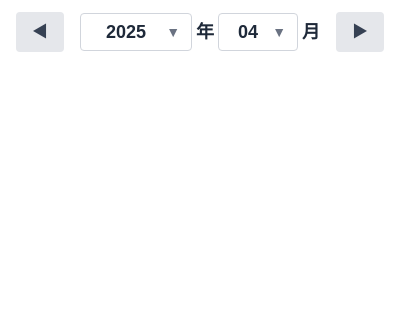
Test: MonthNavigator › 月入力欄にフォーカスすると12か月分の候補が表示される
Focus the dropdown named "月": (258, 32) 218,13 -> 298,51
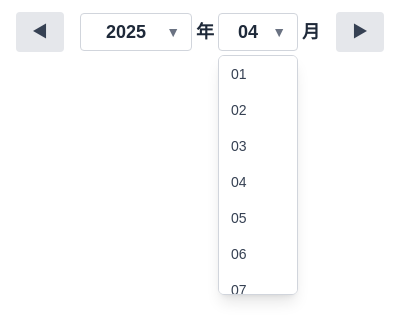
expect the list named "月候補" is shown: met, box 218,55 -> 298,295
expect the button "01" is shown: met, box 219,56 -> 297,92
